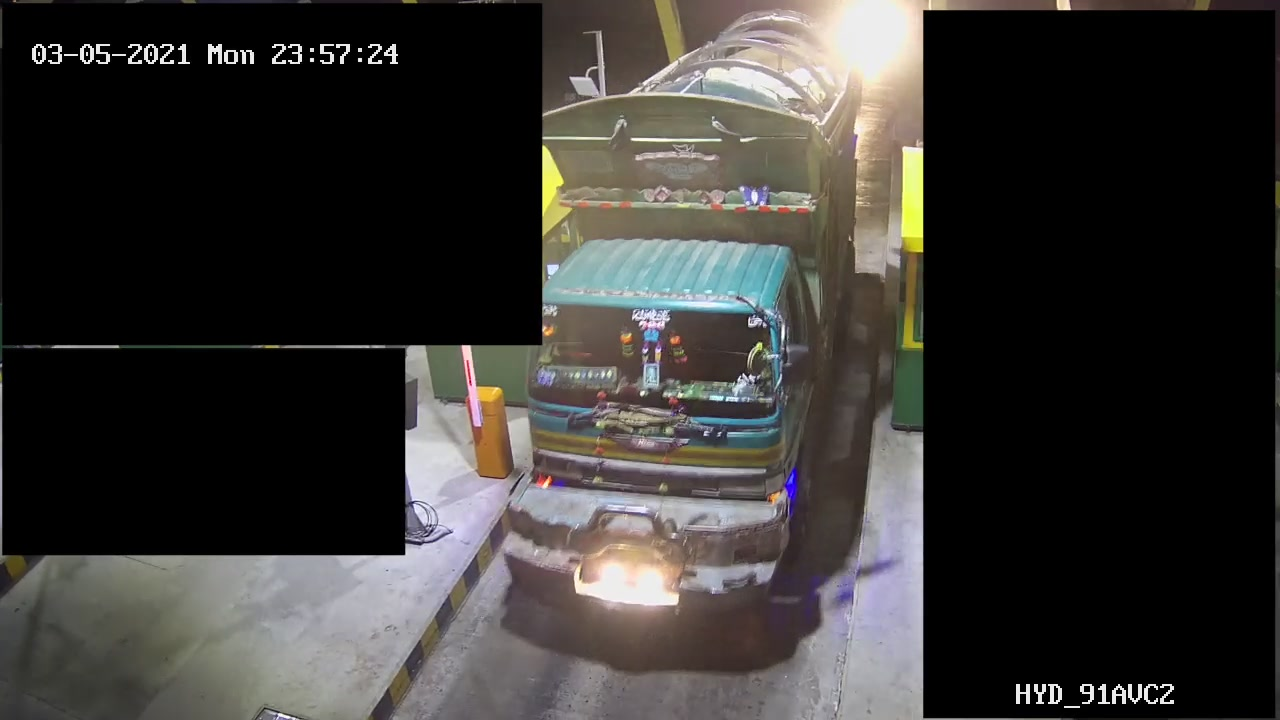F5: (492, 1, 871, 633)
